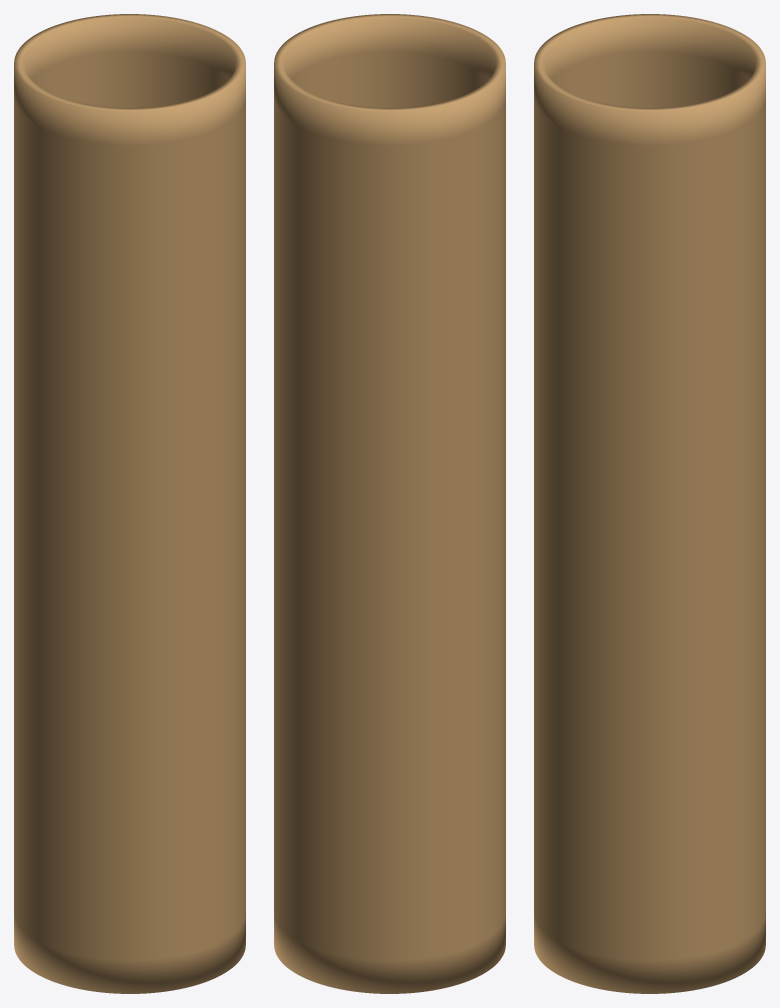
The picture shows the model from 3 angles, left to right: view 1: azimuth 30°, elevation 25°; view 2: azimuth 150°, elevation 25°; view 3: azimuth 270°, elevation 25°; orthographic projection.
Parts seen in each view (by area): view 1: 柱体; view 2: 柱体; view 3: 柱体.
Part boxes in pixels (bbox=[...]): 柱体: bbox=[14, 14, 245, 993]; 柱体: bbox=[274, 14, 505, 993]; 柱体: bbox=[534, 14, 765, 993].
Bounding box in the file's own units: 500 × 2100 × 500.
